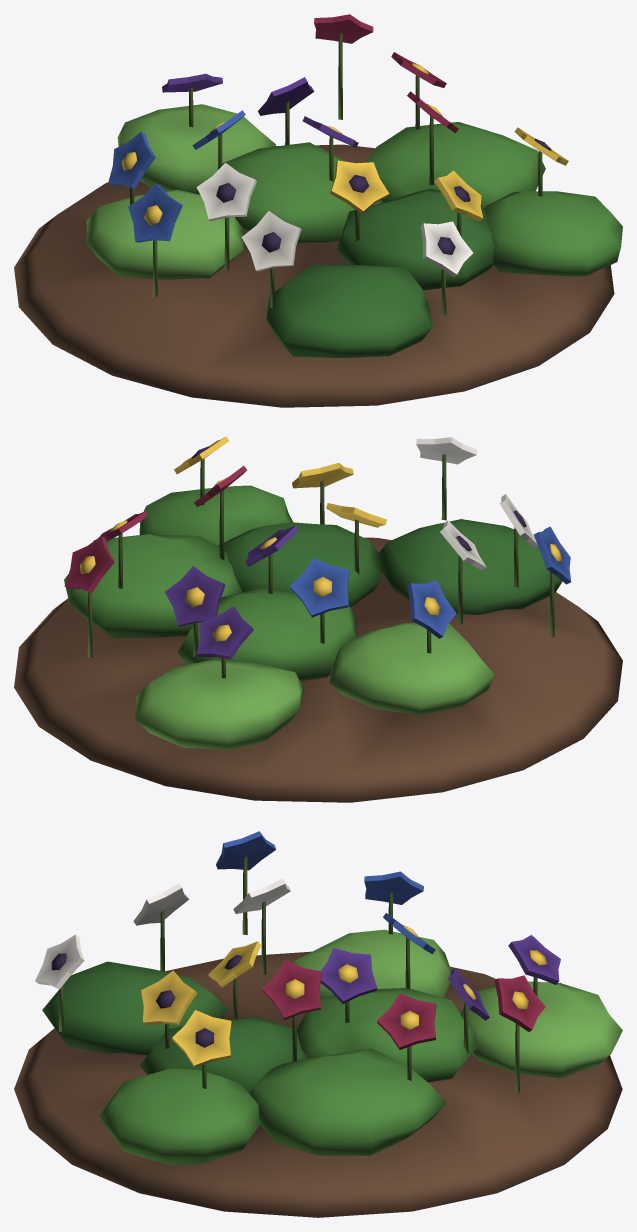
The model's file is pansies.glb.
3 renders of one model, top to bottom at view 1: azimuth 30°, elevation 25°; view 2: azimuth 150°, elevation 25°; view 3: azimuth 270°, elevation 25°, orthographic.
Parts seen in each view (by area): view 1: pansies; view 2: pansies; view 3: pansies.
Part boxes in pixels (x1,y1,x2,y2): pansies: [14, 14, 622, 407]; pansies: [14, 436, 622, 802]; pansies: [14, 831, 622, 1217].
Bounding box in the file's own units: 0.84 × 0.2639 × 0.8404.
